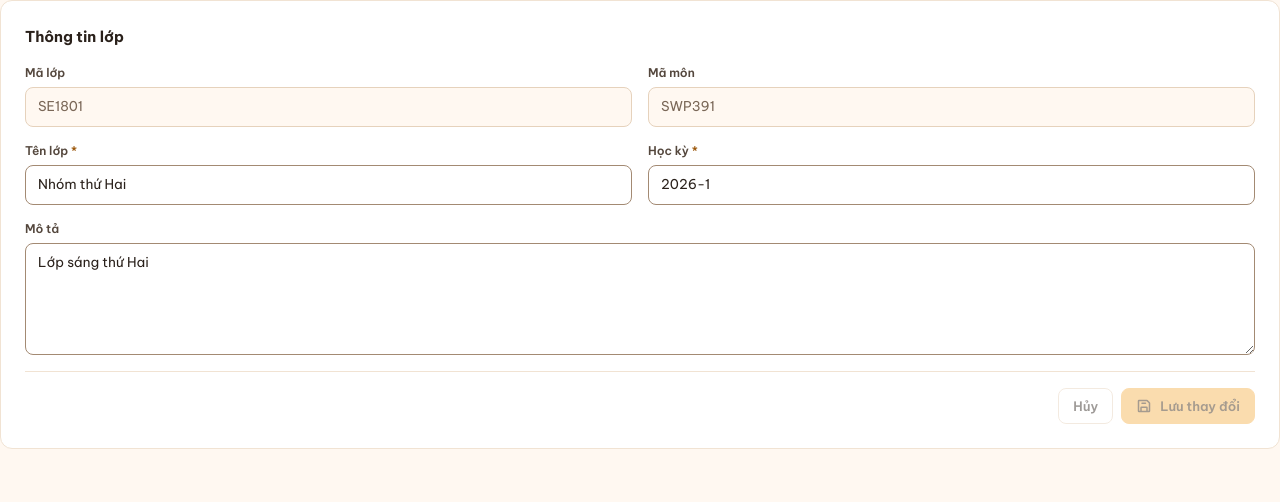
Test: U05 reference UI › preserves unsaved info and displays version conflict
Replace the text in the field labelled "Tên lớp *" with "Lớp mới" at (328,185), box [38,174,619,196]
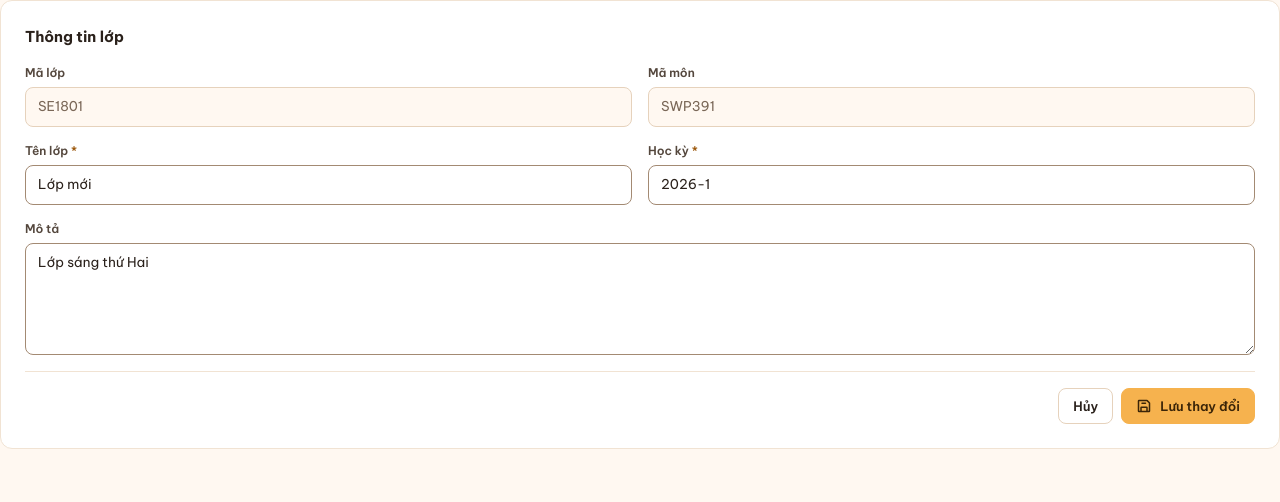
Click the button "Lưu thay đổi" at (1188,406), box [1121,388,1255,424]
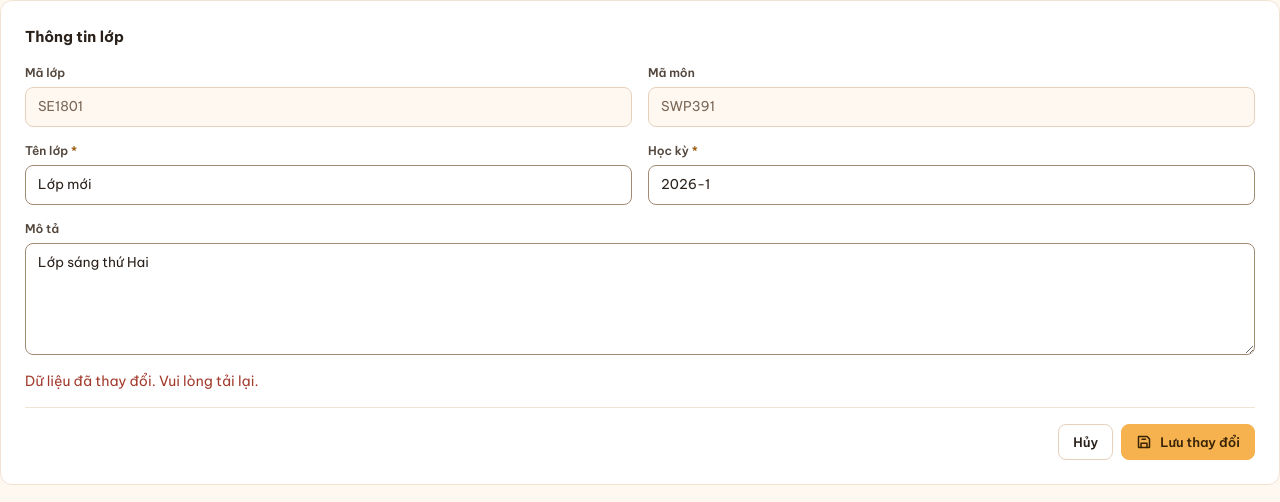
Check: the message shows "tải lại", box [25,372,258,390]
